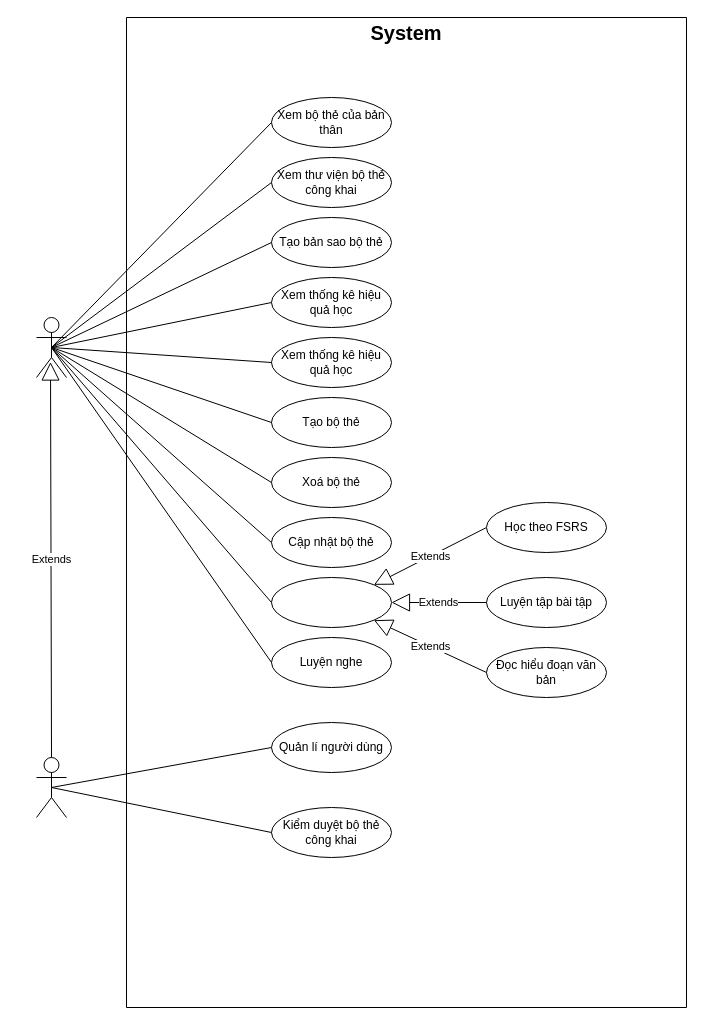
This 704x1025 diagram has some shape labels left out. The shapes that lost their labels are listed below. From the top down, each one's box as (x1, y1, x2, y2) in pixels, then its label:
(36, 316, 66, 378): Người học
(270, 576, 392, 628): Học theo bộ thẻ
(36, 756, 66, 818): Quản trị viên
